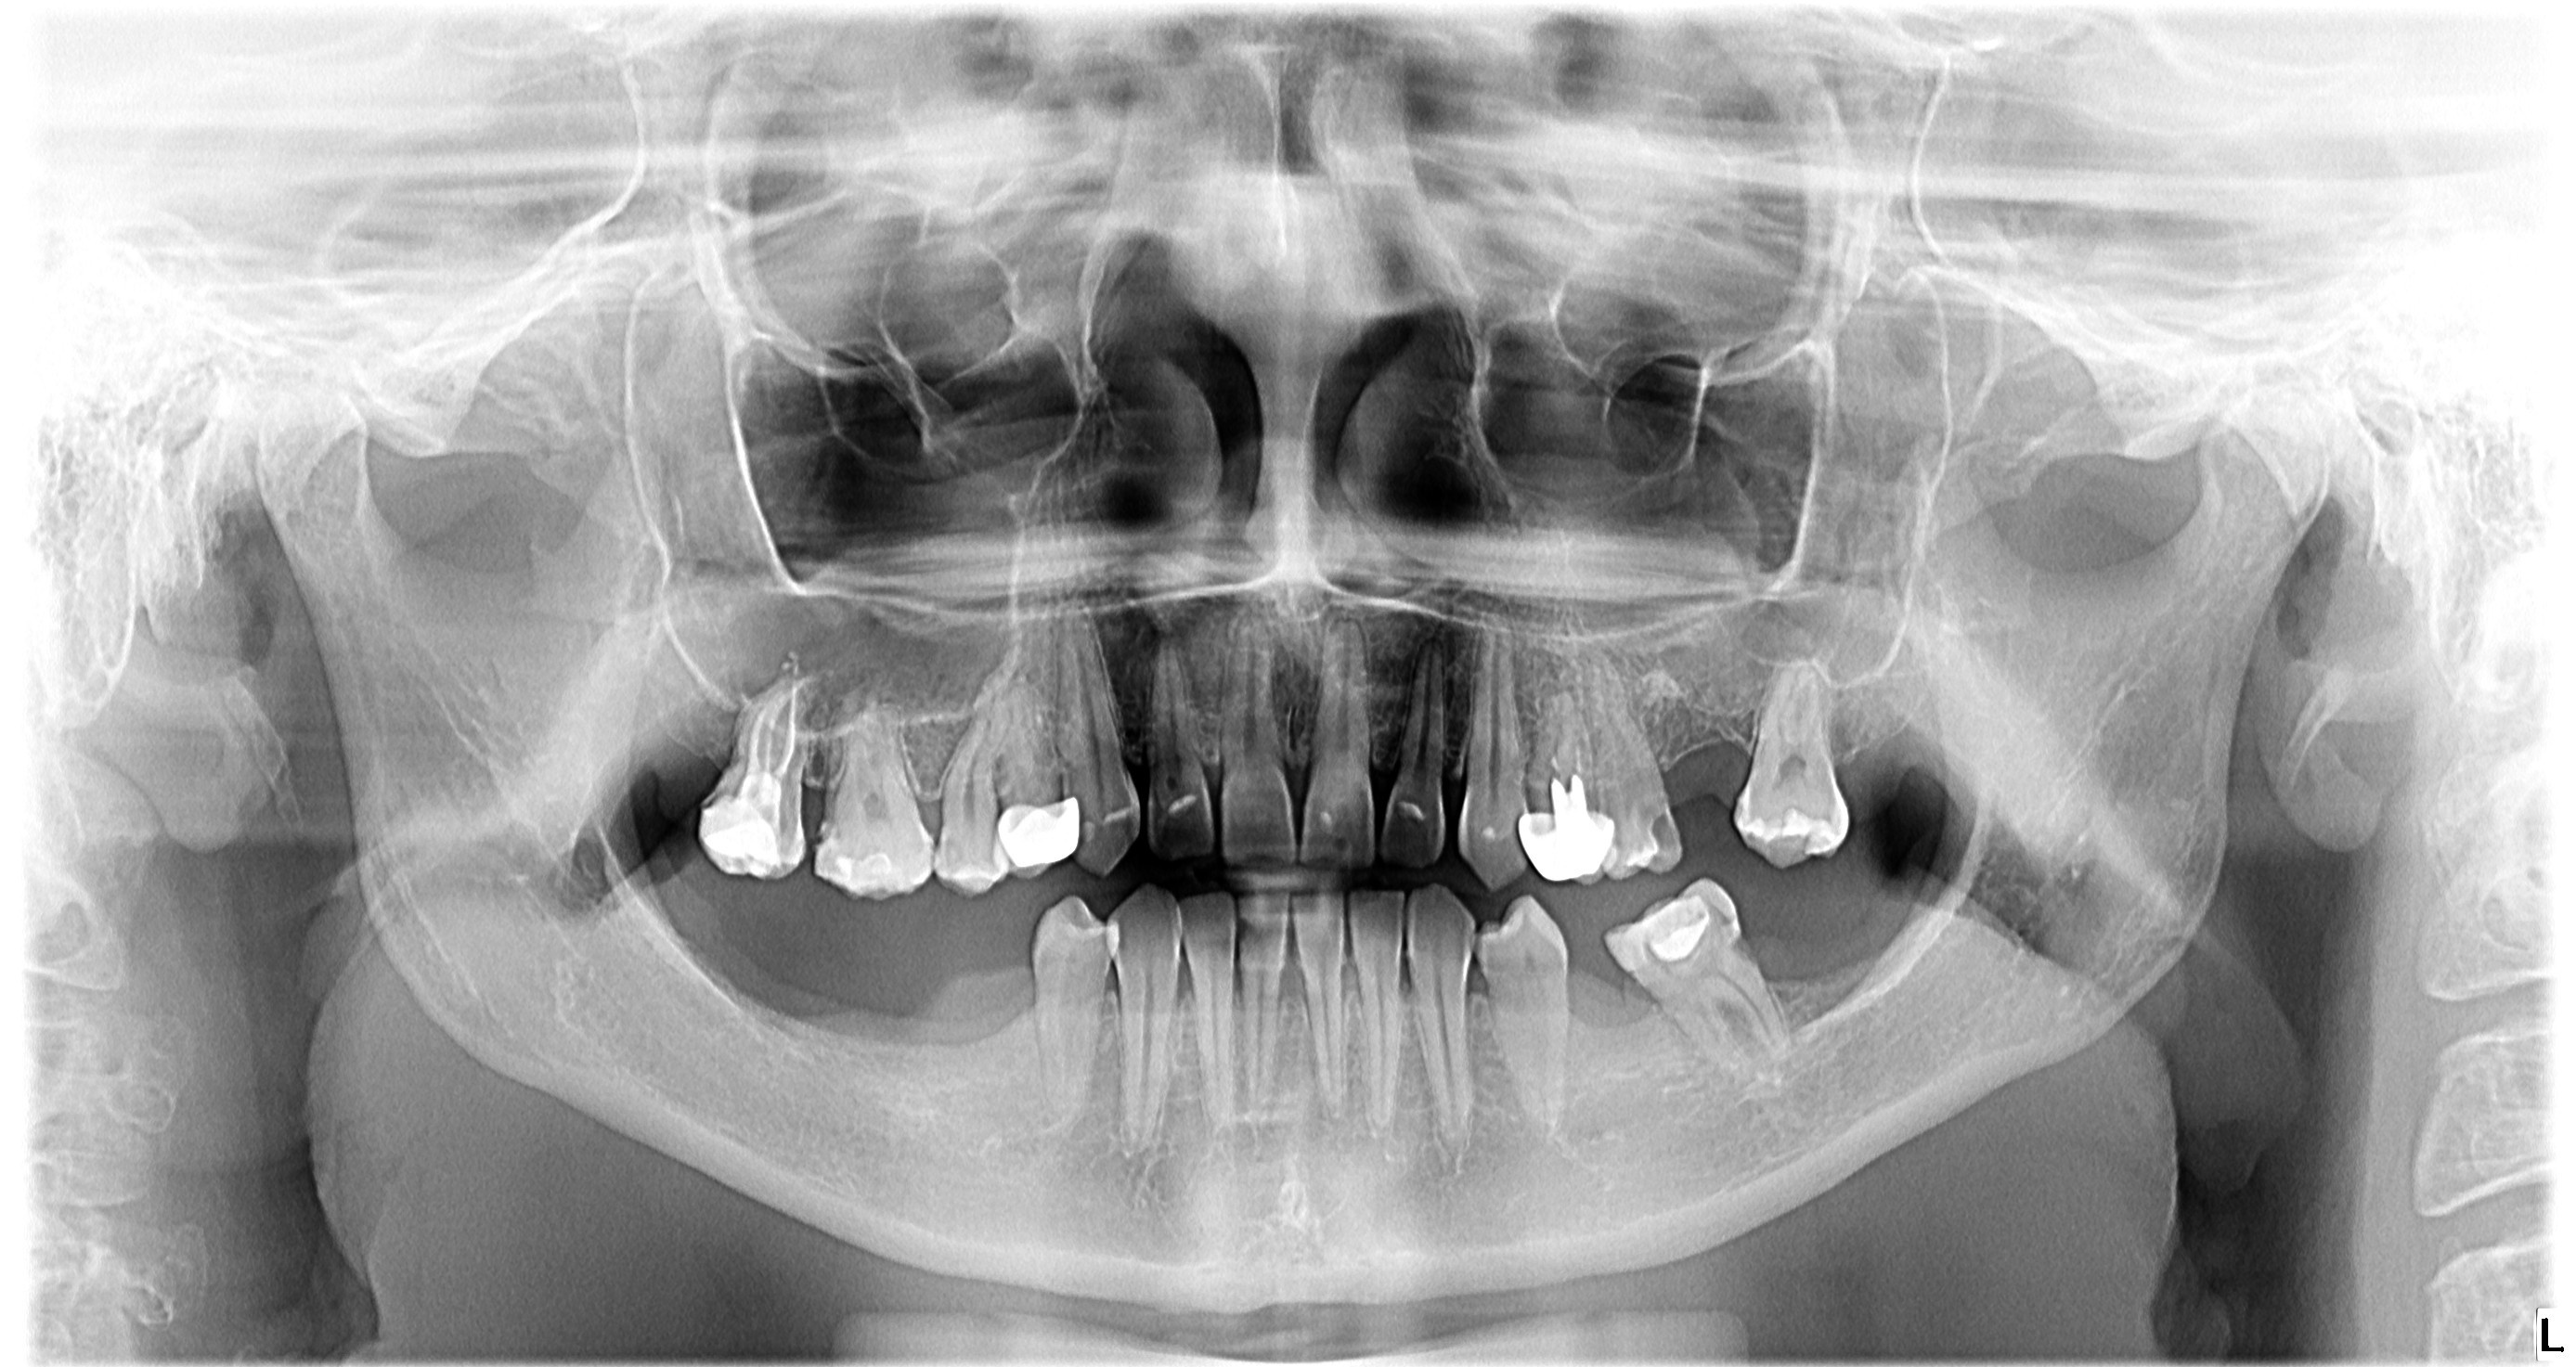CAR: (1636, 795, 1692, 865), (804, 814, 850, 855), (1724, 923, 1755, 974)
END: (750, 667, 818, 783)
FUR: (1707, 994, 1758, 1042)
IMT: (1581, 979, 1670, 1047)
OBT: (1509, 781, 1622, 892), (995, 798, 1085, 878)
PRR: (700, 768, 782, 887), (1624, 894, 1721, 960), (1743, 809, 1833, 860), (828, 846, 905, 885), (1395, 786, 1433, 843), (1312, 798, 1341, 844), (1479, 812, 1509, 855), (1162, 788, 1203, 817)
